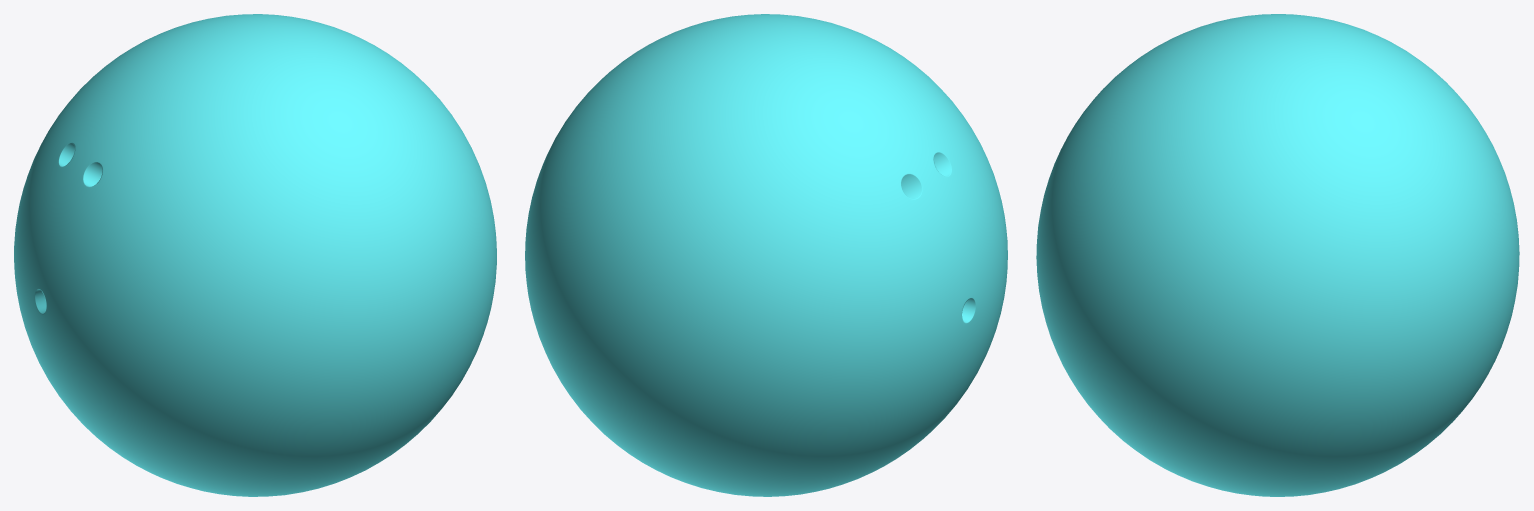
Rendered from ball.fbx.
3 views of the same model, side by side, from view 1: azimuth 30°, elevation 25°; view 2: azimuth 150°, elevation 25°; view 3: azimuth 270°, elevation 25° (orthographic).
Parts seen in each view (by area): view 1: Bowling Ball; view 2: Bowling Ball; view 3: Bowling Ball.
Boxes of the visible parts, bbox=[...] form: Bowling Ball: bbox=[14, 14, 496, 496]; Bowling Ball: bbox=[525, 14, 1007, 496]; Bowling Ball: bbox=[1036, 14, 1519, 496].
Size of the model in its own units: 216 by 216 by 216.
